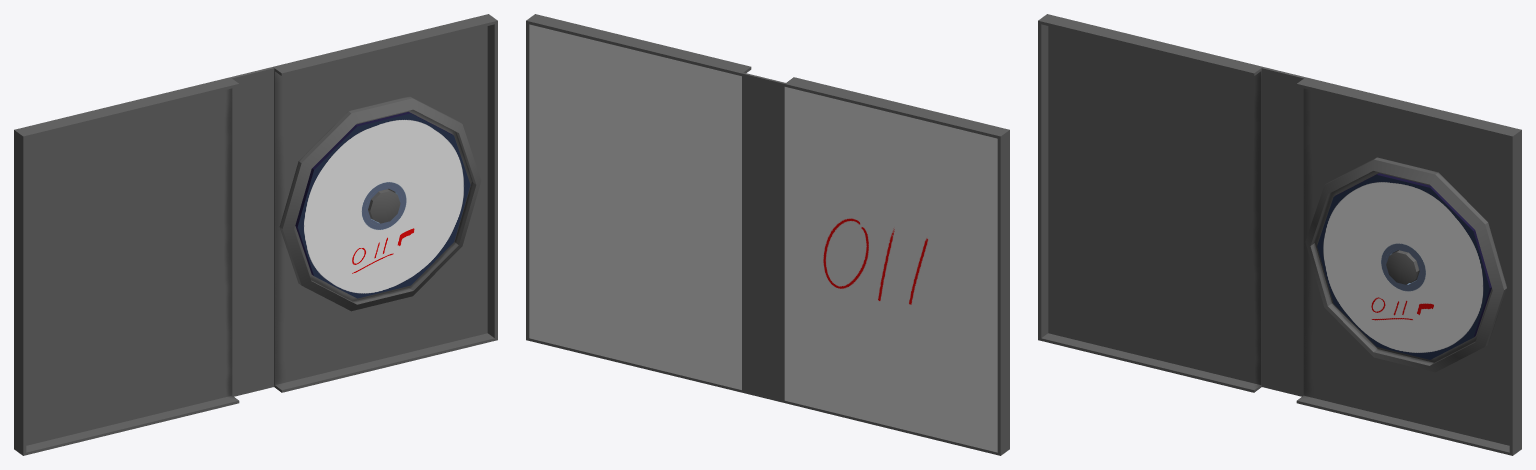
Rendered from dvdmodel.fbx.
3 views of the same model, side by side, from view 1: azimuth 30°, elevation 25°; view 2: azimuth 150°, elevation 25°; view 3: azimuth 330°, elevation 25° (orthographic).
Visible parts, largest first — view 1: dvdcover_left, dvdcover_right, dvd, dvdcover_hinge; view 2: dvdcover_left, dvdcover_right, dvdcover_hinge; view 3: dvdcover_left, dvdcover_right, dvd, dvdcover_hinge.
Boxes of the visible parts, x1,y1,x2,y2 form: dvdcover_left: [14, 77, 239, 455]; dvdcover_right: [273, 14, 497, 392]; dvd: [295, 111, 470, 298]; dvdcover_hinge: [230, 67, 274, 396]; dvdcover_left: [784, 77, 1009, 455]; dvdcover_right: [526, 14, 751, 392]; dvdcover_hinge: [742, 72, 785, 402]; dvdcover_left: [1038, 14, 1262, 392]; dvdcover_right: [1296, 77, 1521, 455]; dvd: [1317, 173, 1491, 359]; dvdcover_hinge: [1261, 67, 1305, 396].
Size of the model in its own units: 11.02 by 7.09 by 0.4236.
4 materials, 4 textured.
